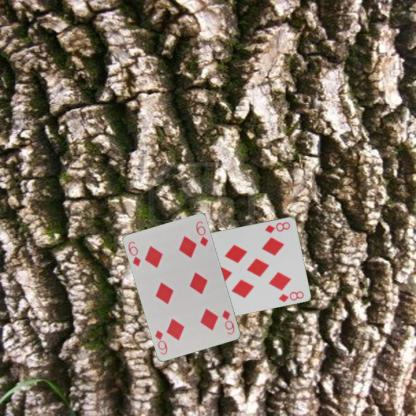6d: (219, 307, 236, 336), (126, 238, 142, 268)
8d: (262, 219, 292, 234)
